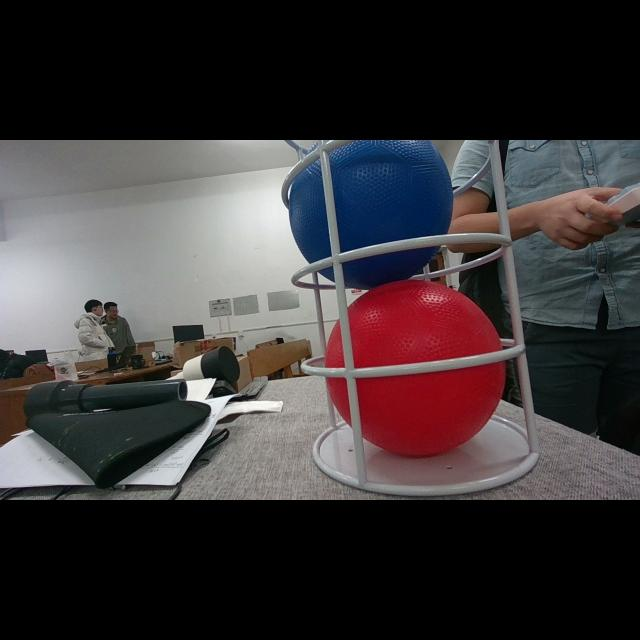B: (288, 140, 454, 290)
R: (324, 279, 506, 456)
S: (281, 140, 541, 498)
